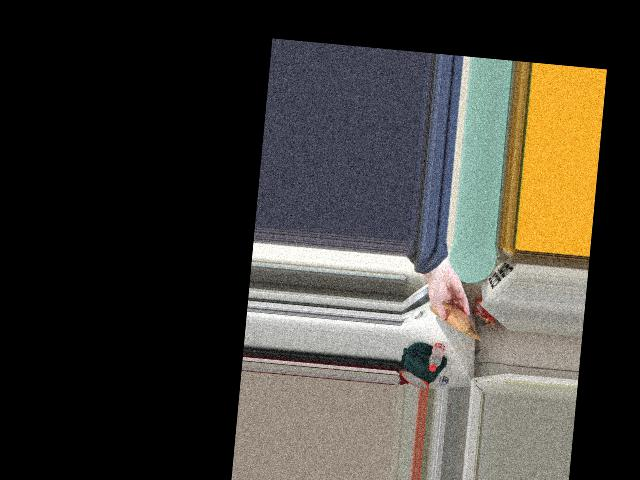sweet_potato: (433, 299, 468, 330)
